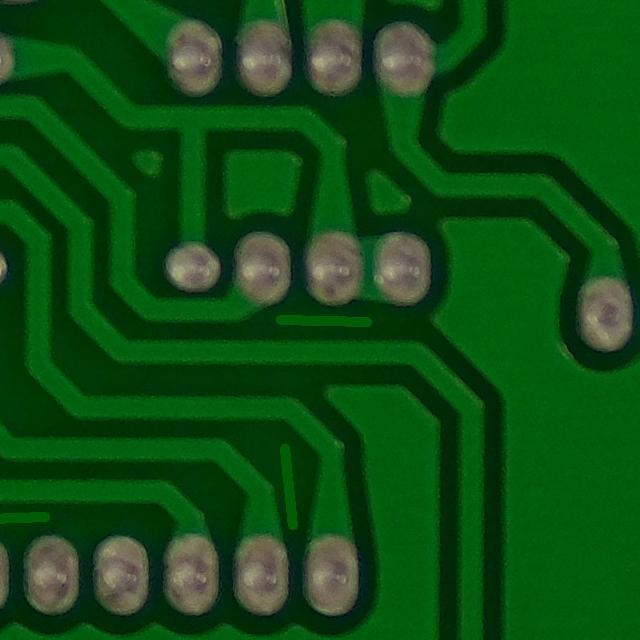spurious_copper: (262, 292, 379, 349)
